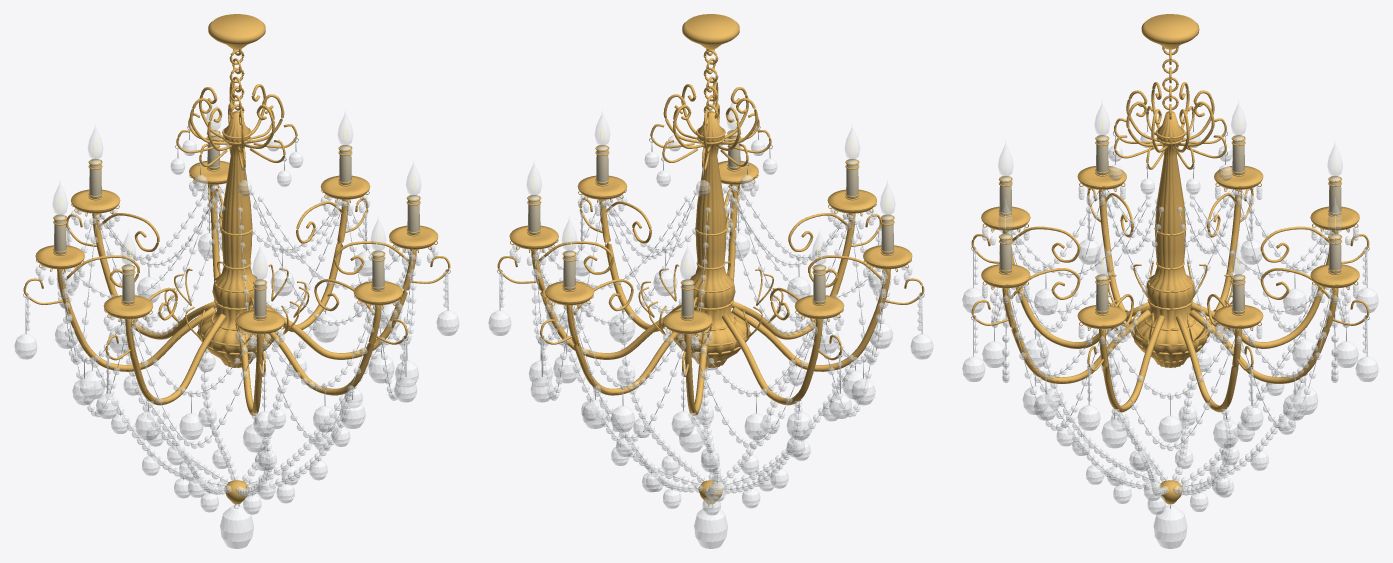
The model's file is avize.glb.
The picture shows the model from 3 angles, left to right: view 1: azimuth 30°, elevation 25°; view 2: azimuth 150°, elevation 25°; view 3: azimuth 270°, elevation 25°; orthographic projection.
Visible parts, largest first — view 1: Fasetli kristal boncuklar ve sarkitlar, Altin govde ve kivrimli kollar, Ince metal baglanti halkalari, Mum duy kiliflari, Sekiz alev bicimli ampul, Kabartma yapraklar ve yivler; view 2: Fasetli kristal boncuklar ve sarkitlar, Altin govde ve kivrimli kollar, Ince metal baglanti halkalari, Mum duy kiliflari, Sekiz alev bicimli ampul; view 3: Fasetli kristal boncuklar ve sarkitlar, Altin govde ve kivrimli kollar, Ince metal baglanti halkalari, Mum duy kiliflari, Sekiz alev bicimli ampul.
Boxes of the visible parts, x1,y1,x2,y2 form: Fasetli kristal boncuklar ve sarkitlar: [14, 135, 459, 548]; Altin govde ve kivrimli kollar: [23, 14, 450, 504]; Ince metal baglanti halkalari: [23, 117, 450, 508]; Mum duy kiliflari: [54, 130, 419, 319]; Sekiz alev bicimli ampul: [52, 96, 421, 280]; Kabartma yapraklar ve yivler: [60, 196, 338, 403]; Fasetli kristal boncuklar ve sarkitlar: [488, 135, 933, 548]; Altin govde ve kivrimli kollar: [497, 14, 924, 504]; Ince metal baglanti halkalari: [497, 117, 924, 508]; Mum duy kiliflari: [528, 130, 893, 319]; Sekiz alev bicimli ampul: [526, 96, 895, 280]; Fasetli kristal boncuklar ve sarkitlar: [962, 131, 1378, 548]; Altin govde ve kivrimli kollar: [971, 14, 1369, 504]; Ince metal baglanti halkalari: [971, 118, 1369, 508]; Mum duy kiliflari: [999, 135, 1341, 314]; Sekiz alev bicimli ampul: [998, 99, 1342, 275].
Bounding box in the file's own units: 0.782 × 1.09 × 0.7831.
